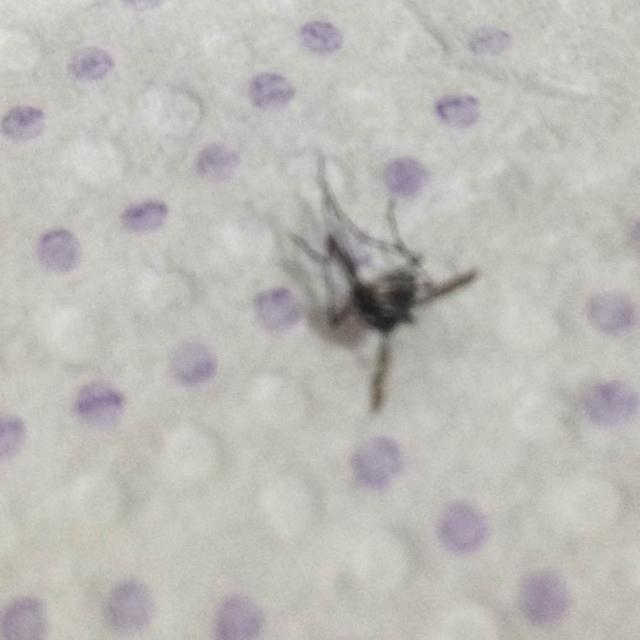albopictus: (258, 159, 490, 419)
